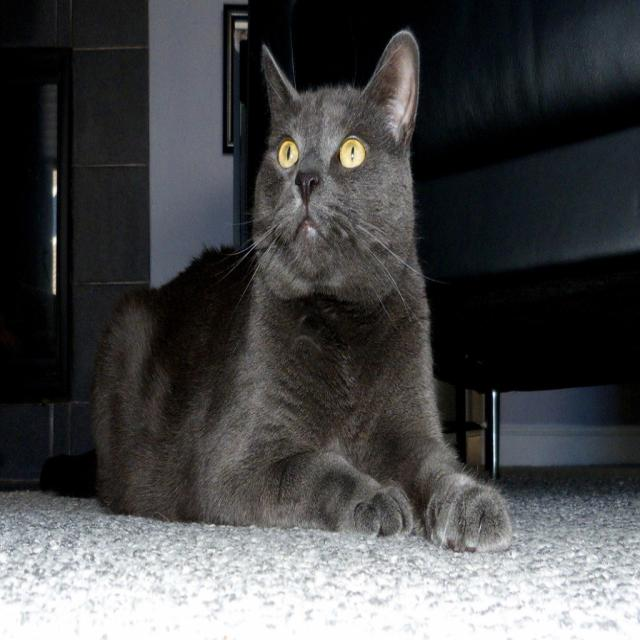Cat: (38, 30, 511, 552)
